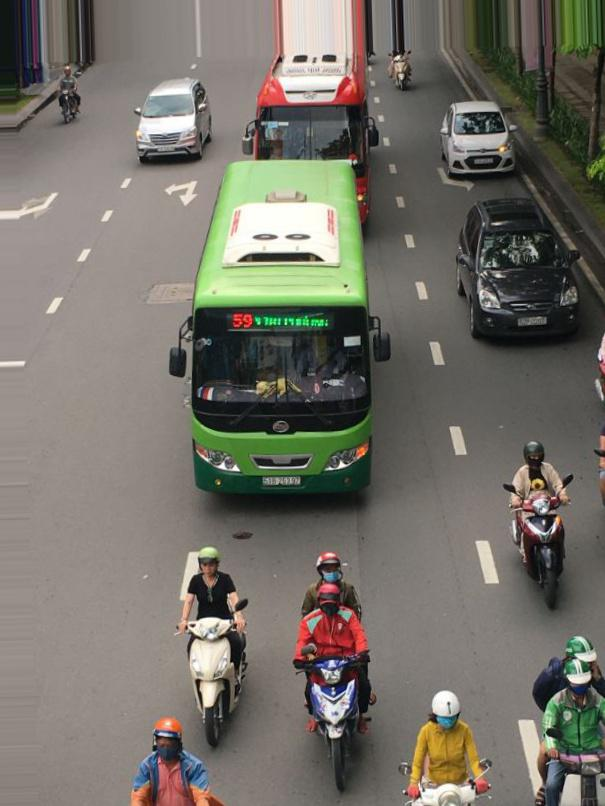bus: (184, 165, 379, 503), (245, 54, 376, 239)
car: (456, 196, 582, 346), (132, 80, 213, 166), (440, 104, 515, 179)
motorbike: (299, 650, 373, 796), (182, 612, 249, 752), (507, 484, 569, 609), (58, 66, 82, 125)
